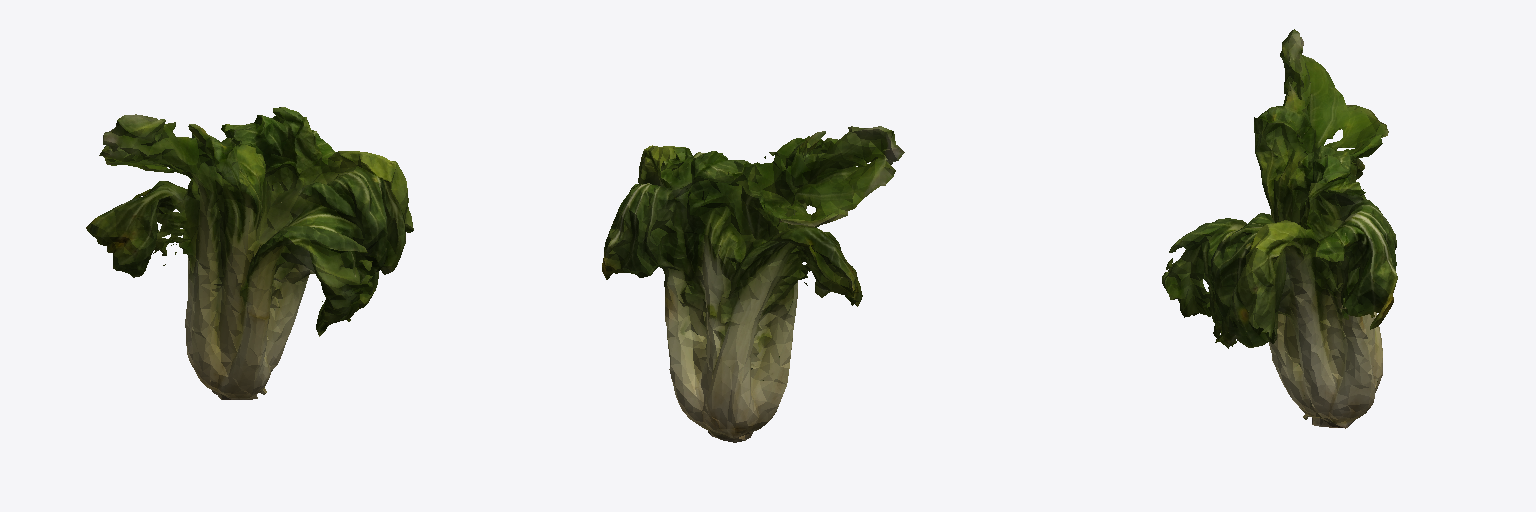
3 views of the same model, side by side, from view 1: azimuth 30°, elevation 25°; view 2: azimuth 150°, elevation 25°; view 3: azimuth 270°, elevation 25° (orthographic).
Parts seen in each view (by area): view 1: bok_choy; view 2: bok_choy; view 3: bok_choy.
Part boxes in pixels (bbox=[...]): bok_choy: bbox=[86, 107, 413, 399]; bok_choy: bbox=[602, 126, 904, 442]; bok_choy: bbox=[1162, 29, 1397, 428].
Bounding box in the file's own units: 1.78 × 1.93 × 1.26.
Materials: 1 (1 with a texture image).